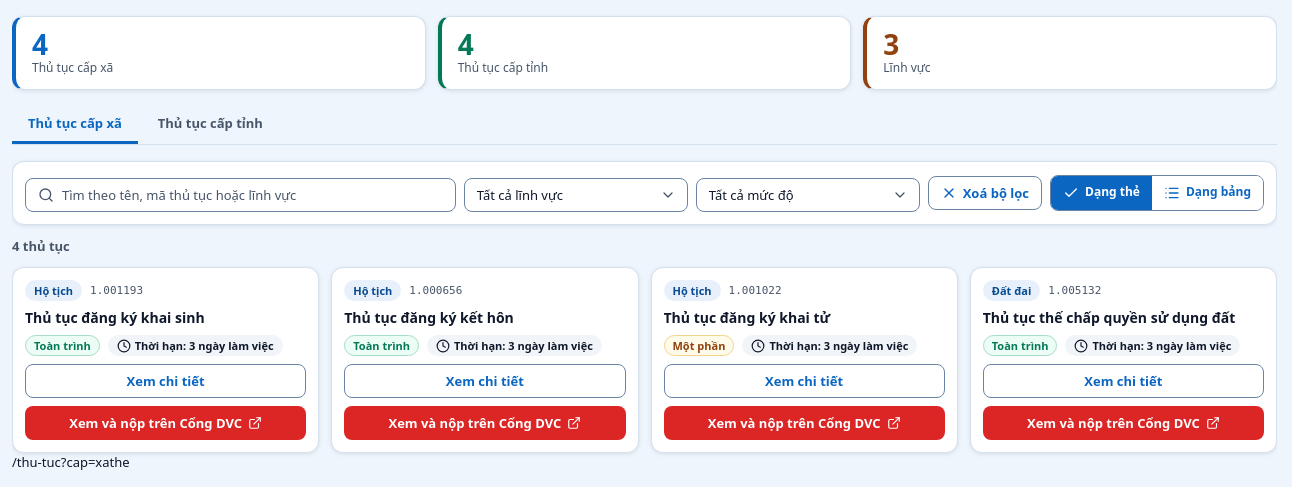
Test case: DanhMuc — lọc (AC-1, AC-2, AC-3, AC-12, AC-17, AC-21) › AC-2: Hộ tịch + Toàn trình → "n thủ tục (đang lọc)", địa chỉ có lv và md
Expected: the text "4 thủ tục" is shown, [12, 237, 70, 255]
Select "Hộ tịch (3)" in the 1st dropdown named "Lĩnh vực" at (576, 195), box [464, 178, 688, 212]
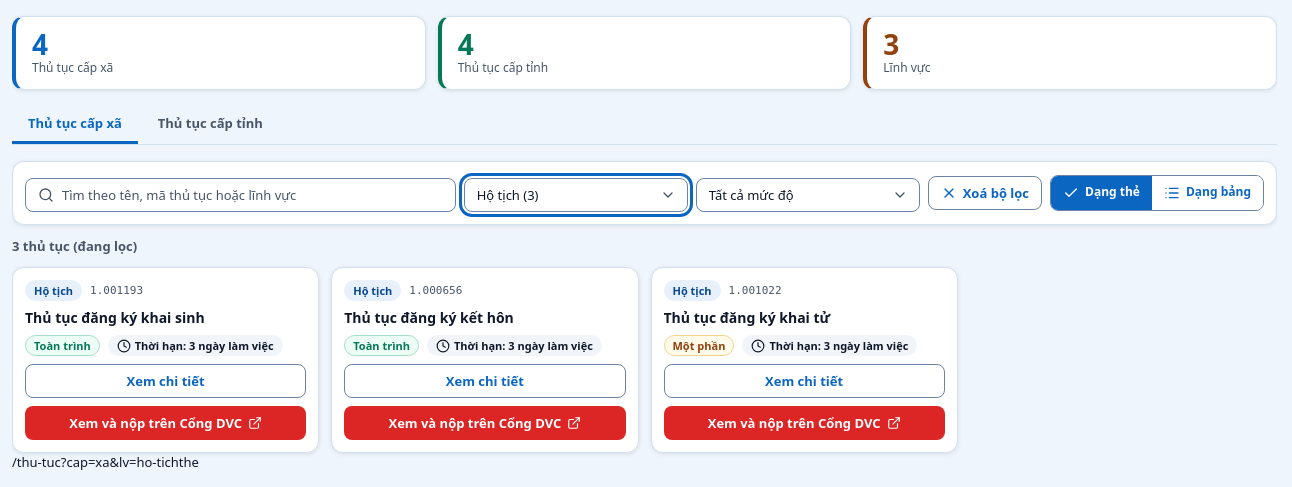
Select "Toàn trình" in the 2nd dropdown named "Mức độ" at (808, 195), box [696, 178, 920, 212]
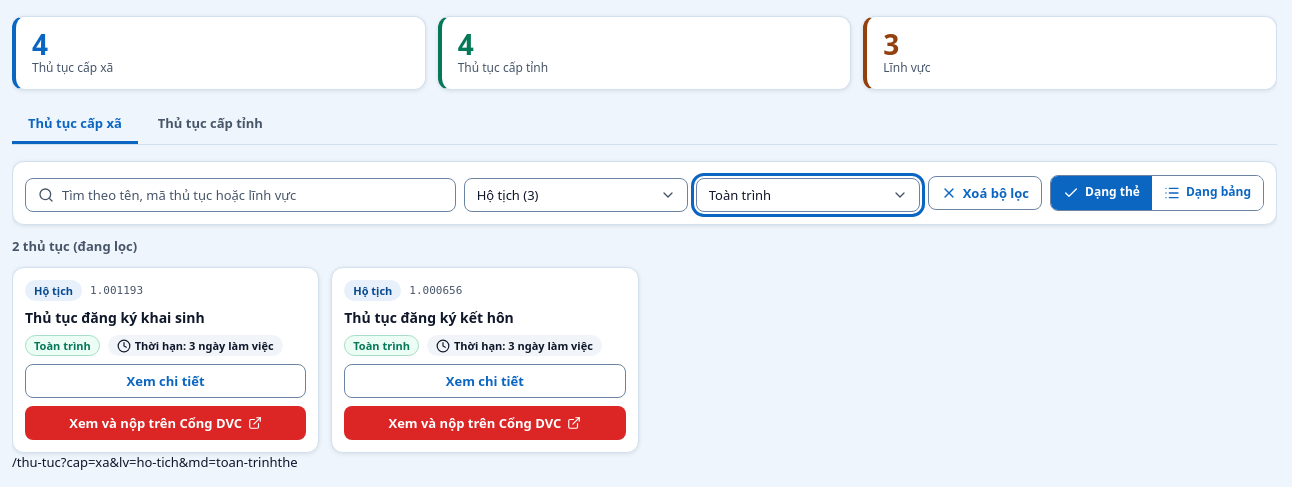
Now the text "2 thủ tục (đang lọc)" is shown, box [12, 237, 137, 255]
